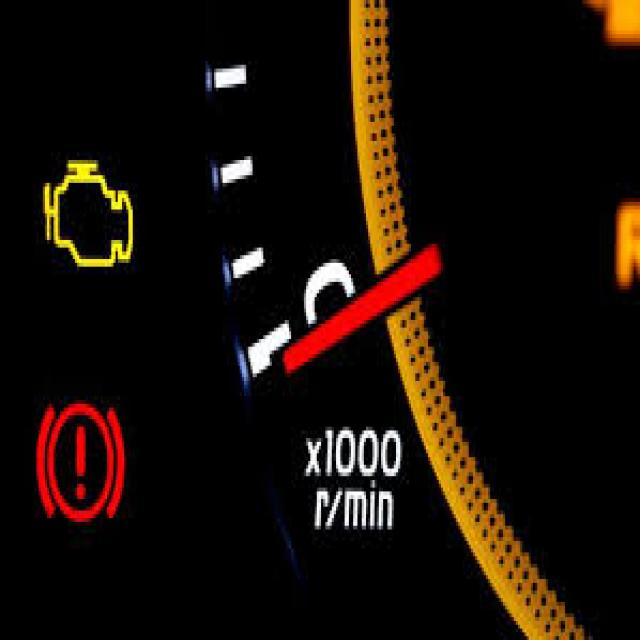kontrolka: (36, 140, 141, 288), (30, 392, 134, 540)
